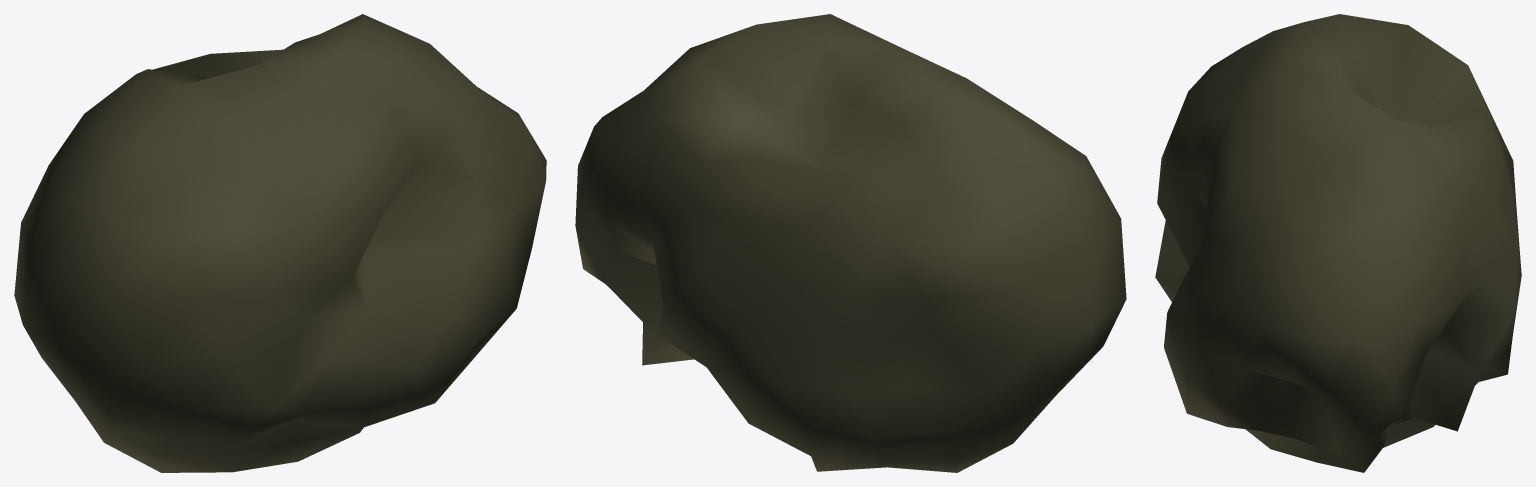
File: asteroid_sml_28.glb
The picture shows the model from 3 angles, left to right: view 1: azimuth 30°, elevation 25°; view 2: azimuth 150°, elevation 25°; view 3: azimuth 270°, elevation 25°; orthographic projection. The views are drawn at different scales.
Visible parts, largest first — view 1: asteroid_sml_28; view 2: asteroid_sml_28; view 3: asteroid_sml_28.
Part boxes in pixels (x1,y1,x2,y2): asteroid_sml_28: [14, 14, 546, 472]; asteroid_sml_28: [575, 14, 1126, 472]; asteroid_sml_28: [1155, 14, 1521, 472].
Size of the model in its own units: 2.04 by 1.55 by 1.25.
